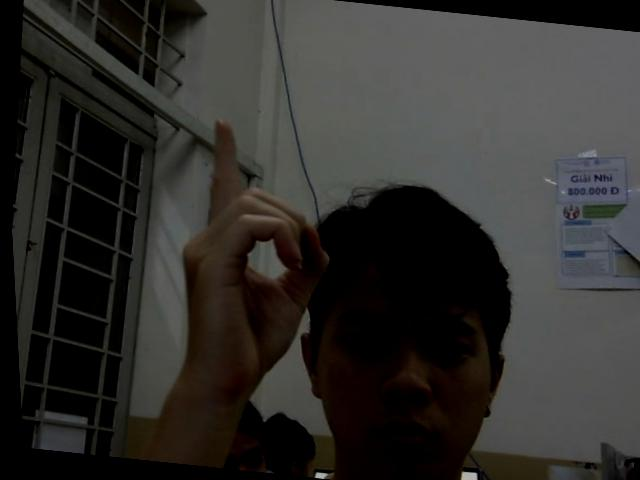D: (158, 114, 345, 387)
